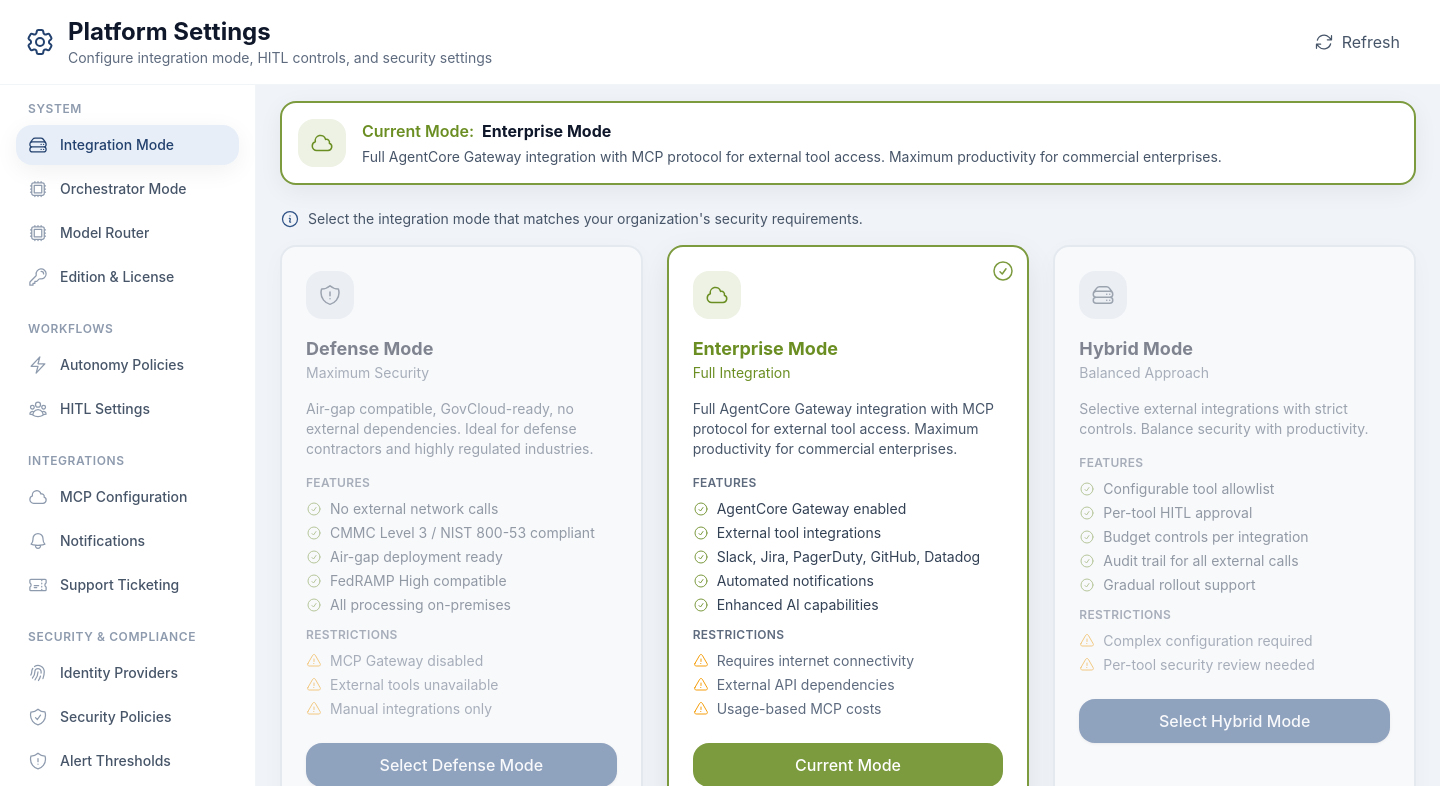
Scenario: SettingsPage › switches to security policies tab on click
Expected: the text "Security Policies" is shown, x1=60 y1=707 x2=171 y2=727
# Click on Security Policies tab in sidebar
Click the button "Security Policies": (128, 717) x1=16 y1=697 x2=239 y2=737
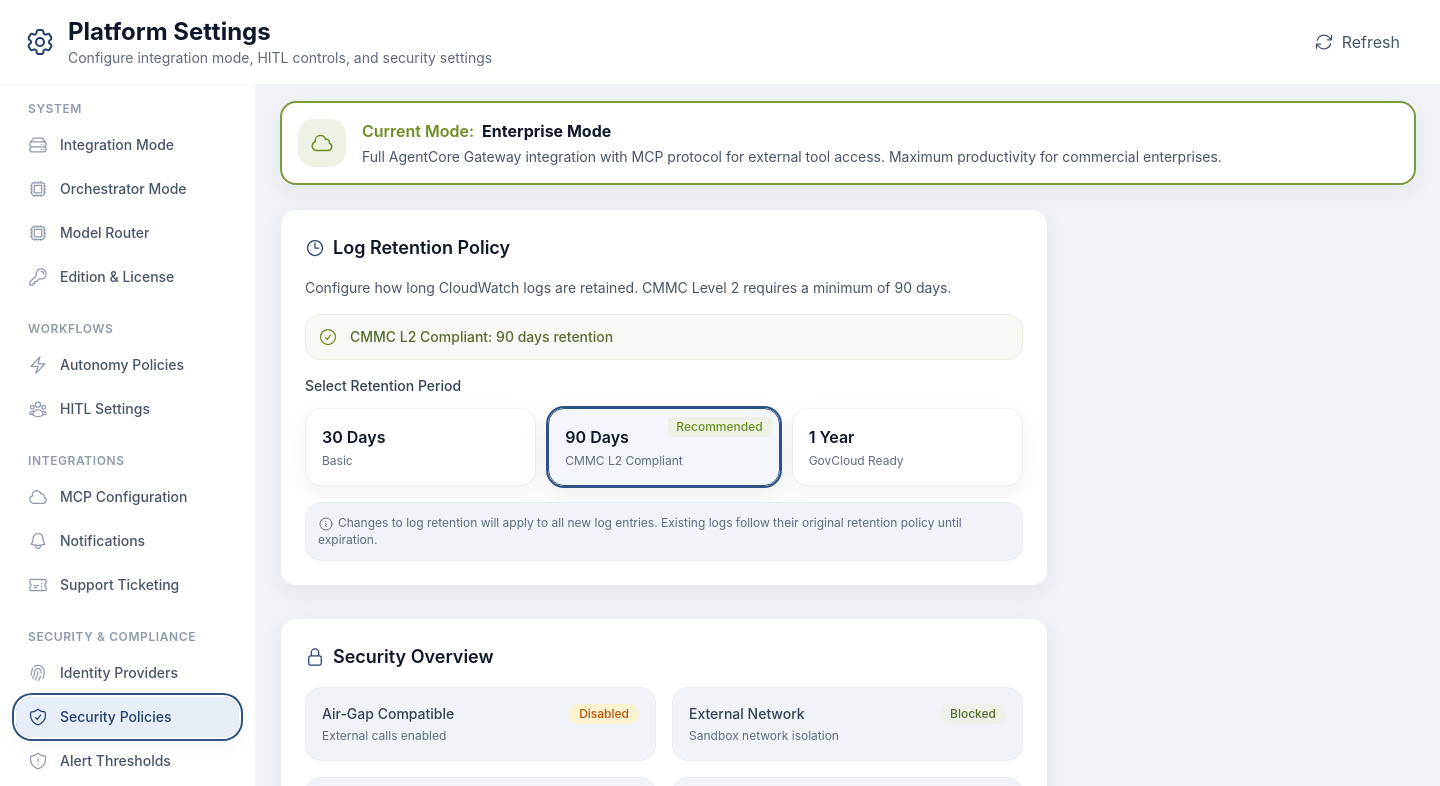
Expected: the heading "Log Retention Policy" is shown, x1=305 y1=237 x2=510 y2=258
